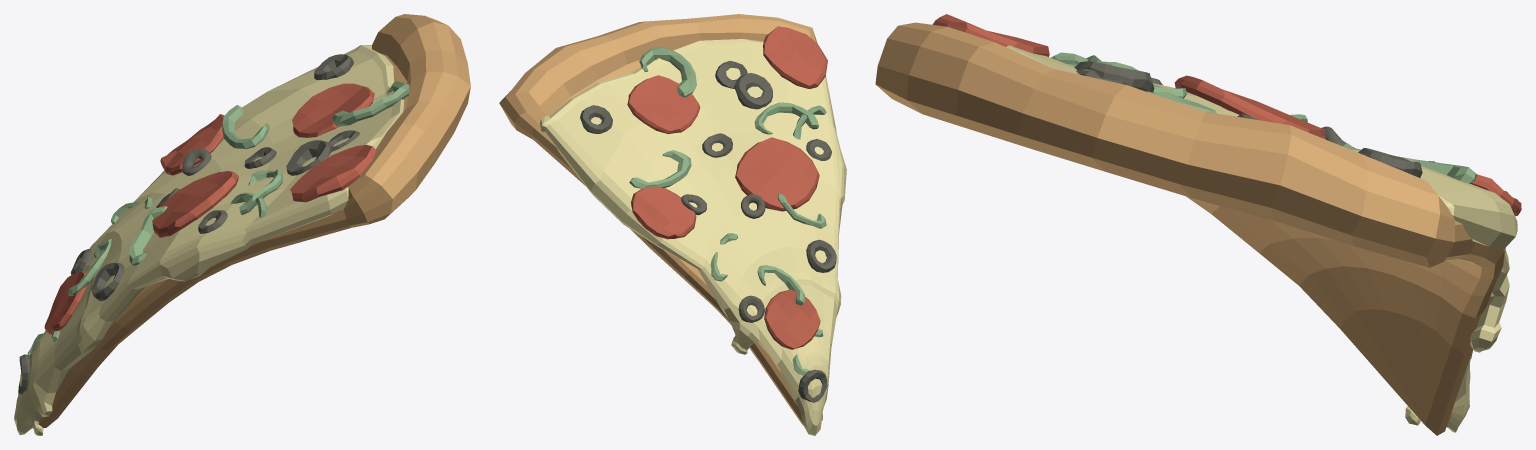
The model's file is pizza.fbx.
3 views of the same model, side by side, from view 1: azimuth 30°, elevation 25°; view 2: azimuth 150°, elevation 25°; view 3: azimuth 270°, elevation 25° (orthographic). The views are drawn at different scales.
Visible parts, largest first — view 1: polySurface26; view 2: polySurface26; view 3: polySurface26.
Part boxes in pixels (<box>): polySurface26: <box>14,14,470,435</box>; polySurface26: <box>499,14,846,435</box>; polySurface26: <box>875,14,1521,435</box>.
Bounding box in the file's own units: 2.37 × 2.02 × 2.05.
